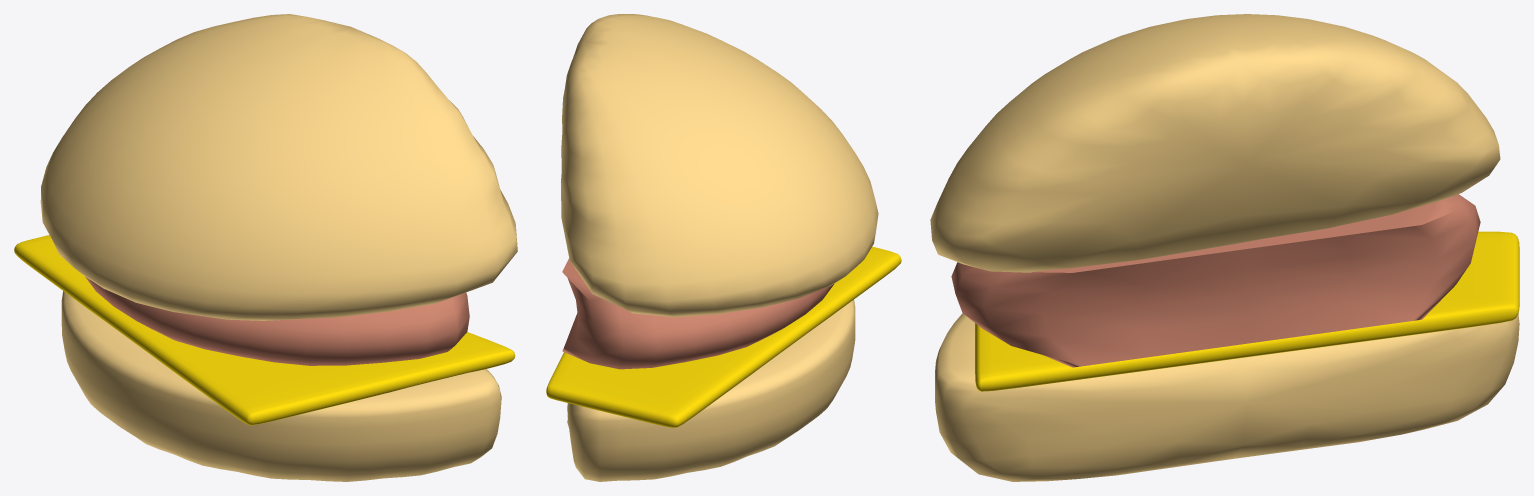
File: burgerhalf.fbx
The picture shows the model from 3 angles, left to right: view 1: azimuth 30°, elevation 25°; view 2: azimuth 150°, elevation 25°; view 3: azimuth 270°, elevation 25°; orthographic projection. The views are drawn at different scales.
Parts seen in each view (by area): view 1: pSphere2; view 2: pSphere2; view 3: pSphere2.
Boxes of the visible parts, bbox=[...] form: pSphere2: bbox=[14, 14, 517, 481]; pSphere2: bbox=[546, 14, 901, 481]; pSphere2: bbox=[930, 14, 1519, 481].
Size of the model in its own units: 1.25 by 1.32 by 1.67.
